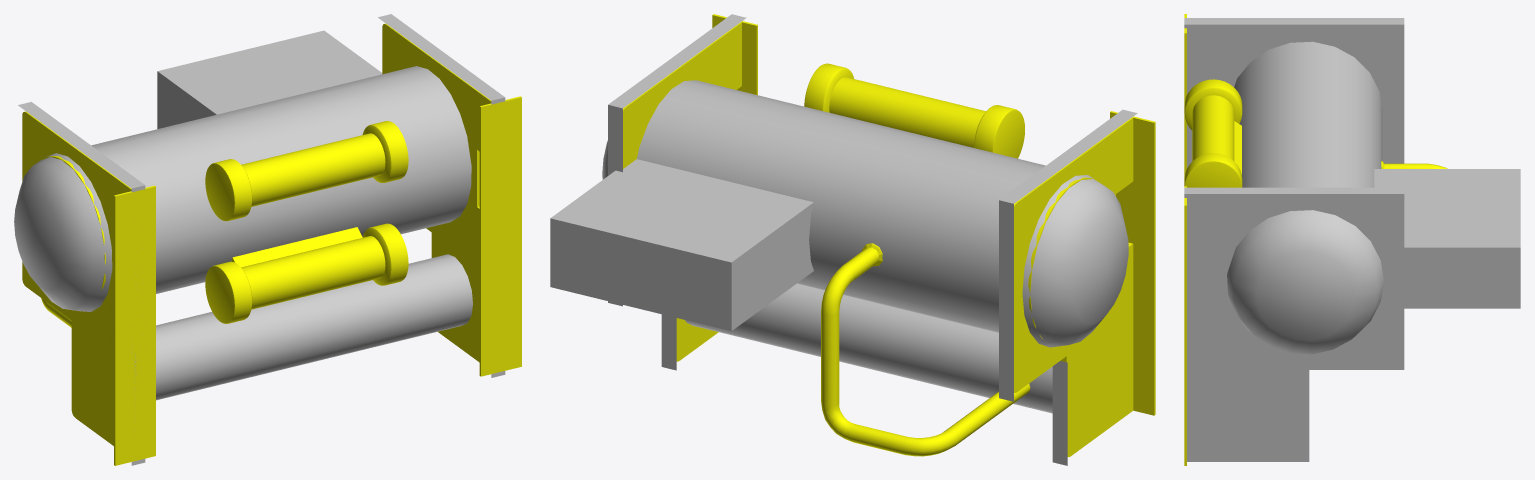
File: sm_hana_bas_air_source_heat_pump.glb
3 renders of one model, left to right at view 1: azimuth 30°, elevation 25°; view 2: azimuth 150°, elevation 25°; view 3: azimuth 270°, elevation 25°, orthographic. The views are drawn at different scales.
Parts seen in each view (by area): view 1: sm_color_common, sm_hana_bas_air_source_heat_pump; view 2: sm_color_common, sm_hana_bas_air_source_heat_pump; view 3: sm_color_common, sm_hana_bas_air_source_heat_pump.
Boxes of the visible parts, box(x1,y1,x2,y2) form: sm_color_common: box(14, 14, 505, 465); sm_hana_bas_air_source_heat_pump: box(22, 23, 521, 465); sm_color_common: box(550, 14, 1137, 465); sm_hana_bas_air_source_heat_pump: box(623, 14, 1155, 456); sm_color_common: box(1184, 18, 1520, 461); sm_hana_bas_air_source_heat_pump: box(1184, 14, 1447, 465).
Bounding box in the file's own units: 2.52 × 1.49 × 1.7.
2 materials, 1 textured.
